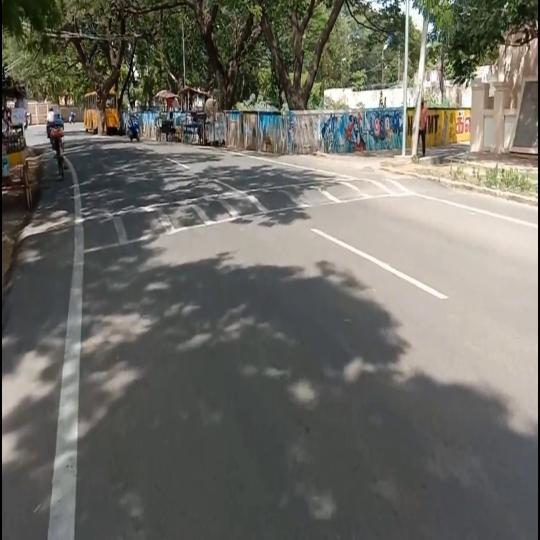Speed Bump: (13, 175, 440, 261)
